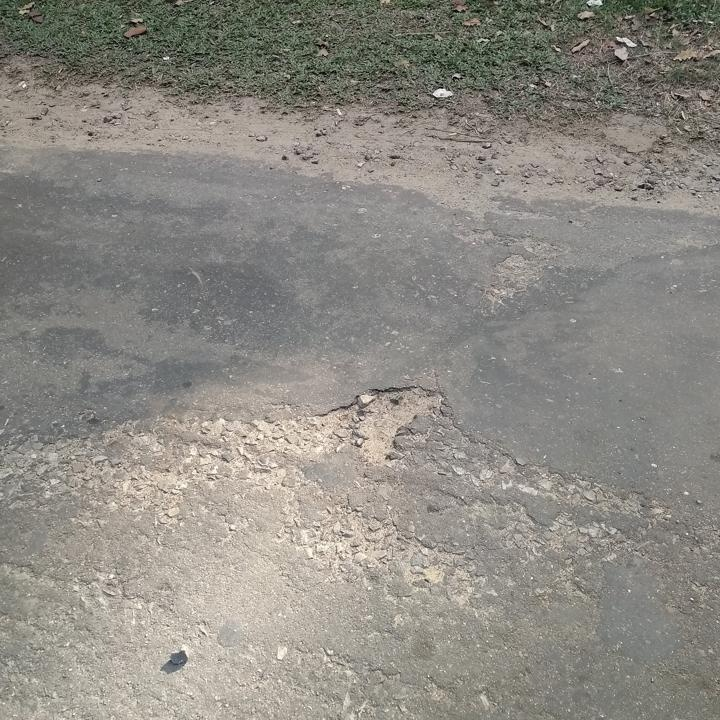pothole: (346, 381, 450, 470)
